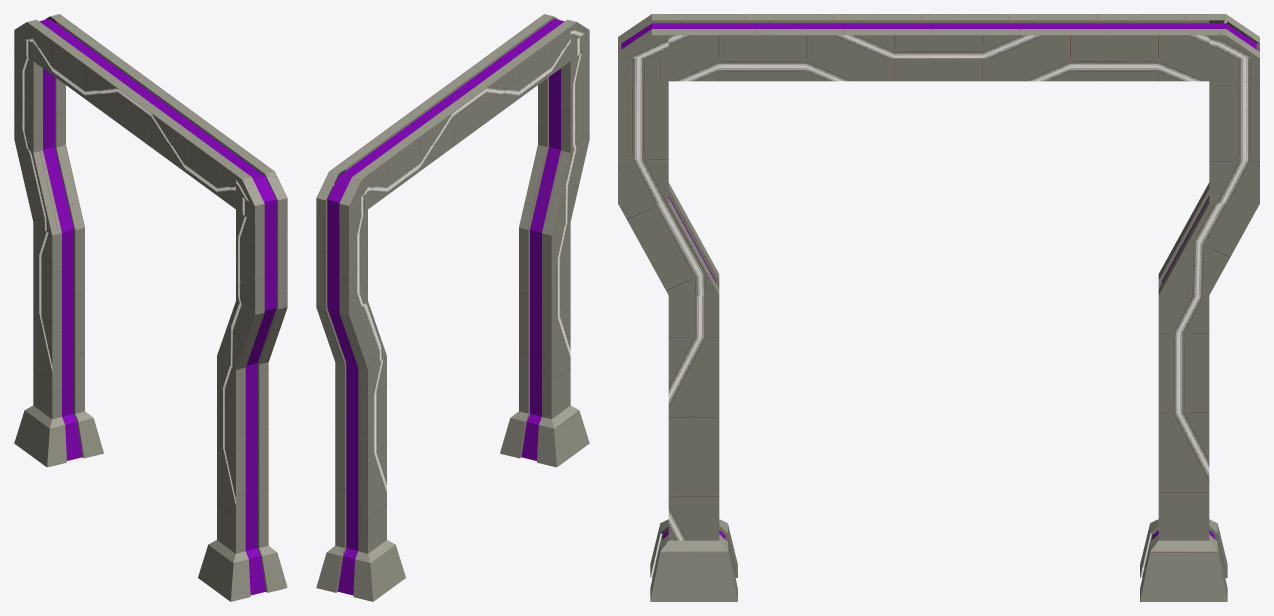
Rendered from KF_Arch.fbx.
3 views of the same model, side by side, from view 1: azimuth 30°, elevation 25°; view 2: azimuth 150°, elevation 25°; view 3: azimuth 270°, elevation 25° (orthographic). The views are drawn at different scales.
Parts seen in each view (by area): view 1: KF_Arch; view 2: KF_Arch; view 3: KF_Arch.
Part boxes in pixels (x1,y1,x2,y2): KF_Arch: [14, 14, 287, 601]; KF_Arch: [316, 14, 589, 601]; KF_Arch: [618, 14, 1259, 601].
Size of the model in its own units: 260 by 1825 by 1900.
Materials: 2 (1 with a texture image).
